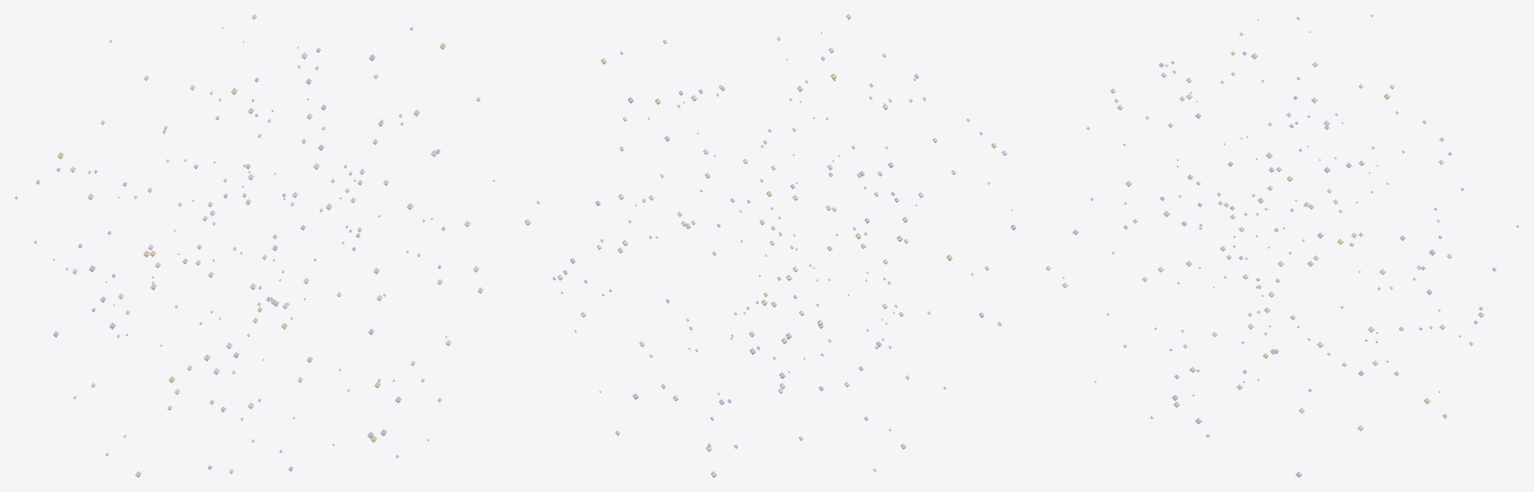
3 views of the same model, side by side, from view 1: azimuth 30°, elevation 25°; view 2: azimuth 150°, elevation 25°; view 3: azimuth 270°, elevation 25° (orthographic). The views are drawn at different scales.
Bounding box in the file's own units: 4.92 × 4.52 × 5.05.
